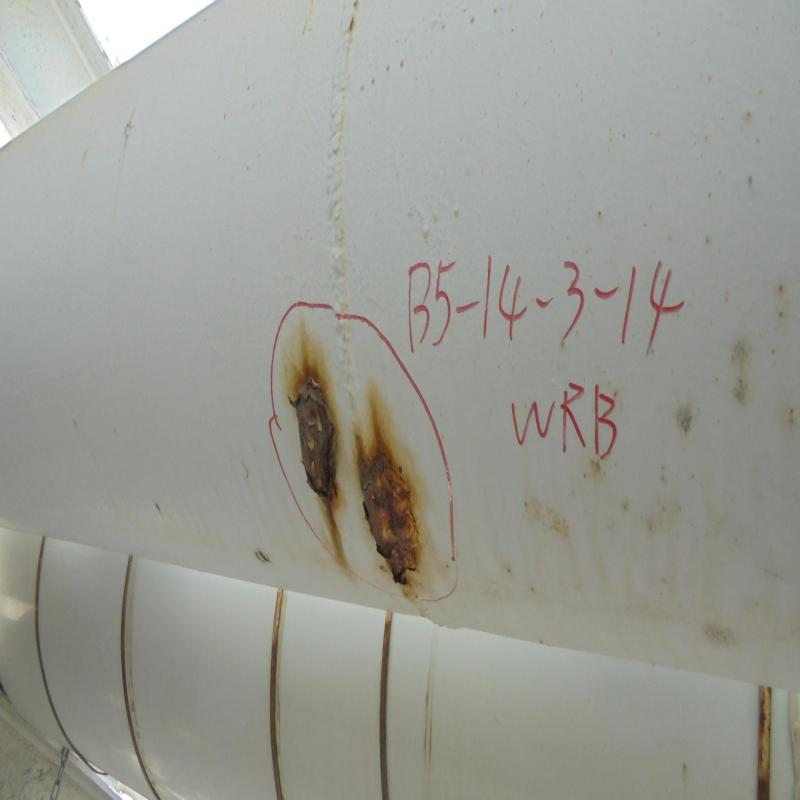corrosion: (359, 454, 426, 595), (289, 381, 343, 503)
